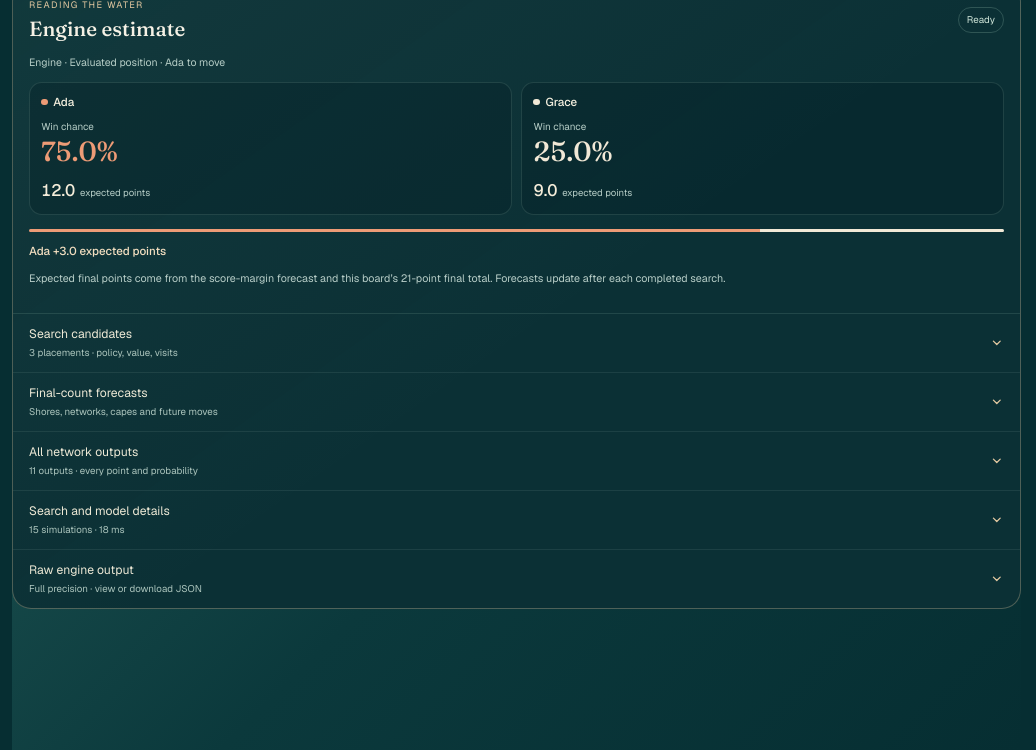
Test case: EngineEstimatePanel › keeps very small nonzero output probabilities distinguishable from zero
Click the button "All network outputs 11 outputs · every point and probability": (84, 452) left=13, top=432, right=1020, bottom=490
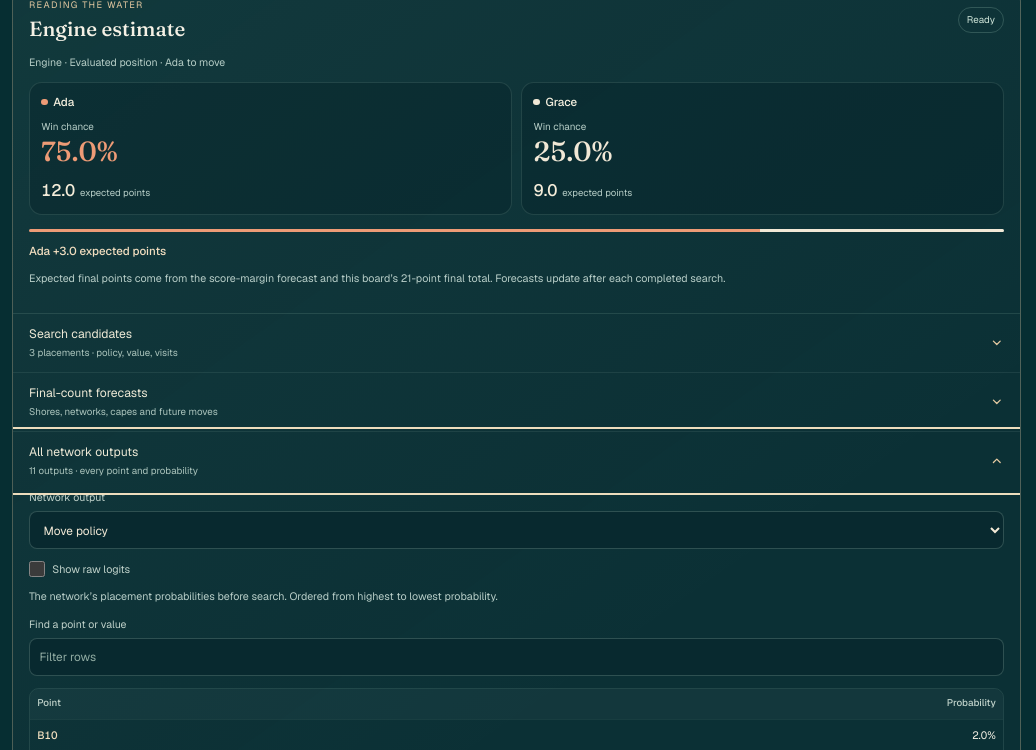
Expected: the text "Ordered from highest to lowest probability" is shown, left=287, top=588, right=498, bottom=602
In the search field labelled "Find a point or value": (516, 657) left=29, top=638, right=1004, bottom=676, type "A10"
(page scrolled)
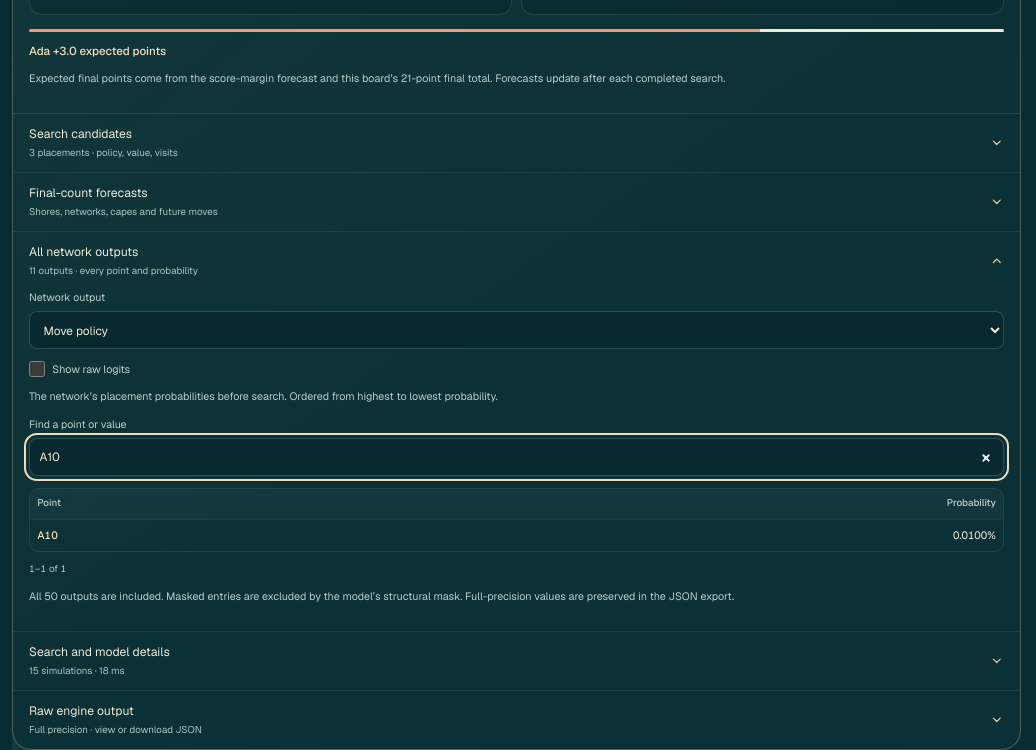
Expected: the table named "Move policy" shows "0.0100%", left=953, top=528, right=996, bottom=542
